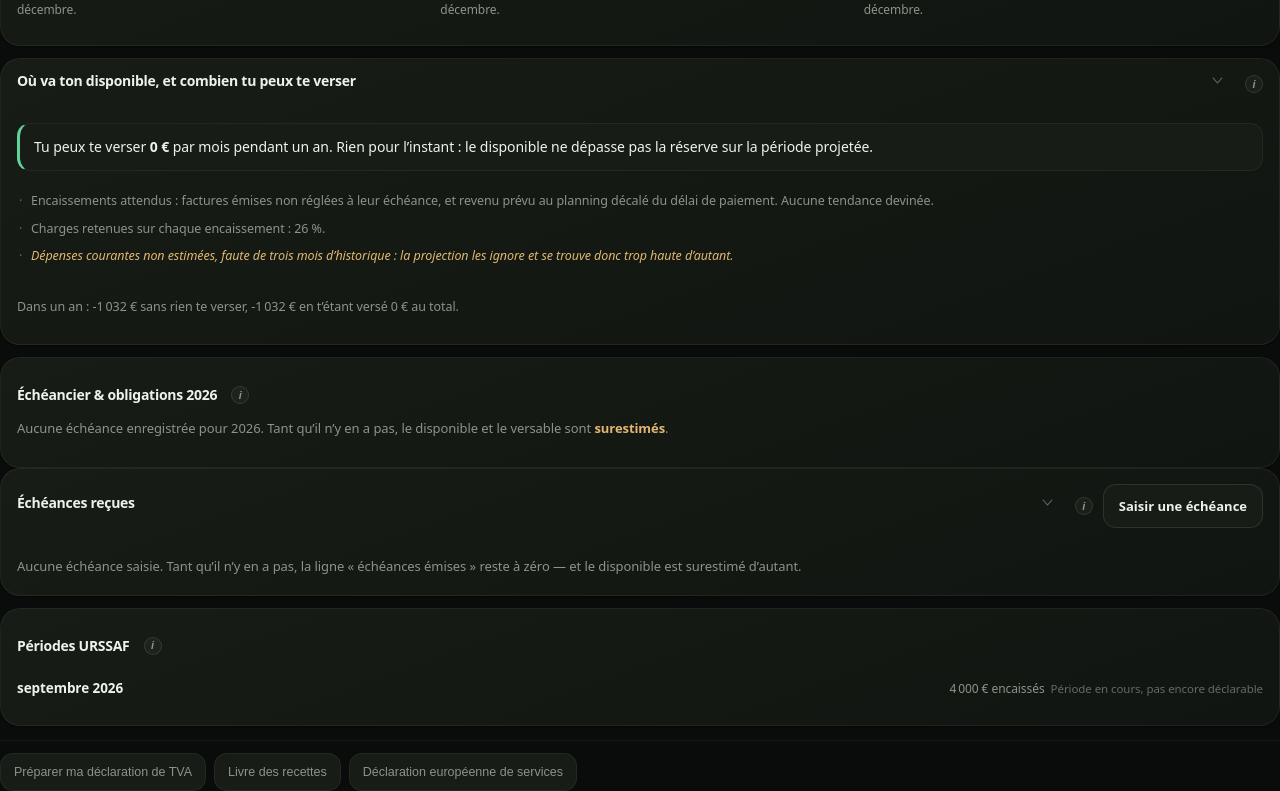
it: prestations à déclarer › retient le mois d’émission, et le dit
(page scrolled)
Click the button "Déclaration européenne de services". click: [463, 772]
box: [349,753,577,790]
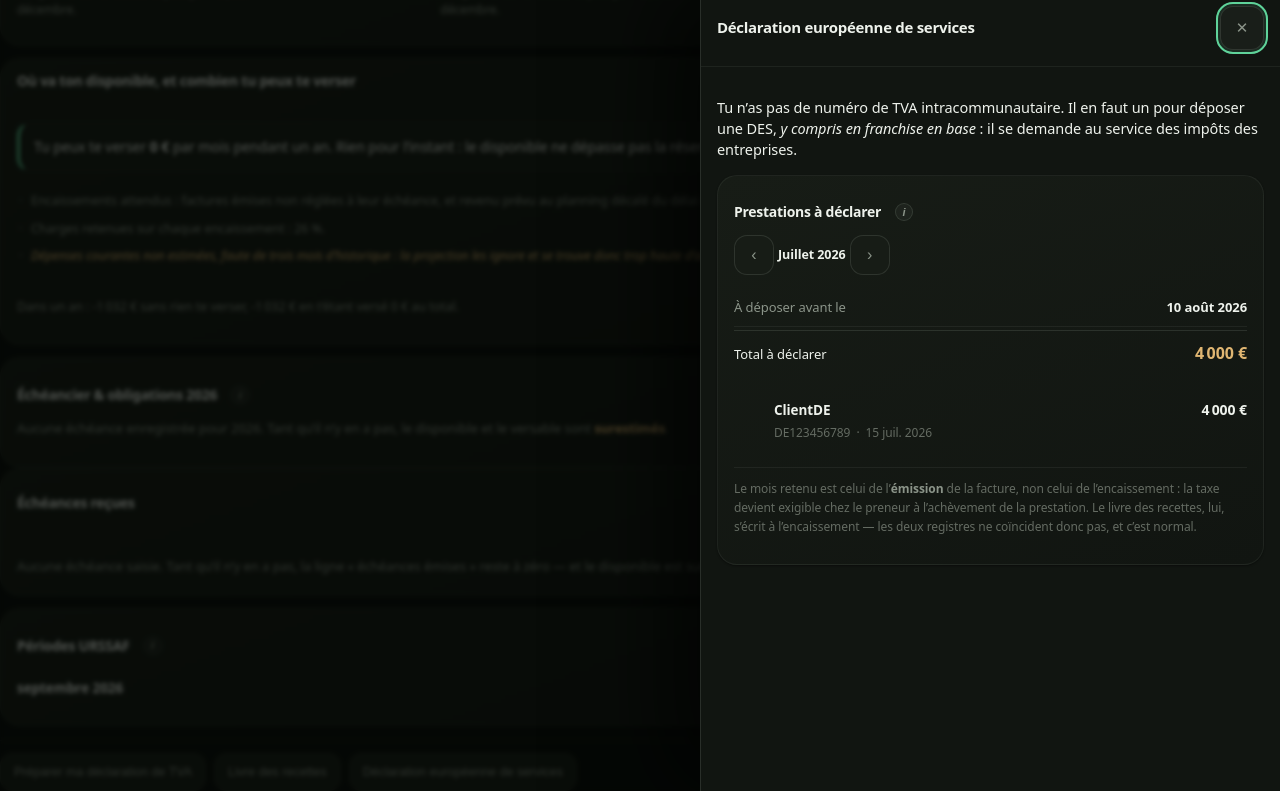
Result: the heading "Prestations à déclarer" is shown at [734,202,881,221]
Result: the text "les deux registres ne coïncident donc pas" is shown at [734,480,1224,536]
